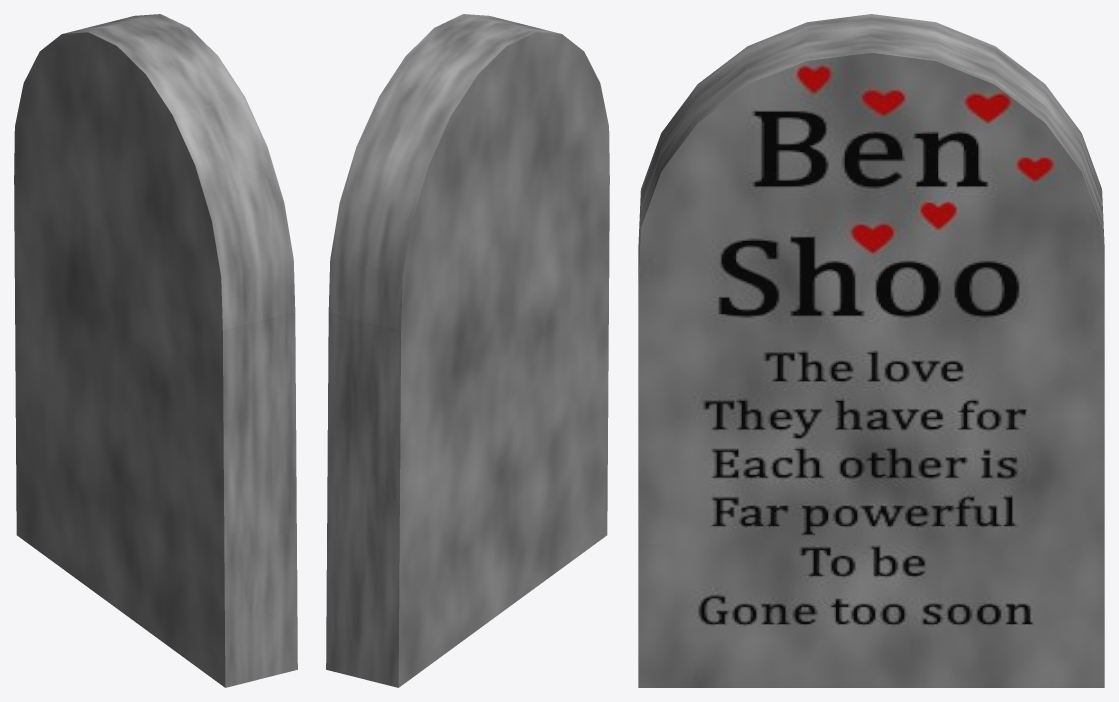
Rendered from Gravestone.ben-shoo.dae.
3 views of the same model, side by side, from view 1: azimuth 30°, elevation 25°; view 2: azimuth 150°, elevation 25°; view 3: azimuth 270°, elevation 25° (orthographic). The views are drawn at different scales.
Parts seen in each view (by area): view 1: SketchUp; view 2: SketchUp; view 3: SketchUp.
Part boxes in pixels (left/top/right/bottom): SketchUp: left=14, top=14, right=297, bottom=687; SketchUp: left=326, top=14, right=609, bottom=687; SketchUp: left=638, top=14, right=1104, bottom=687.
Bounding box in the file's own units: 0.0341 × 0.161 × 0.2413.
Materials: 1 (1 with a texture image).
